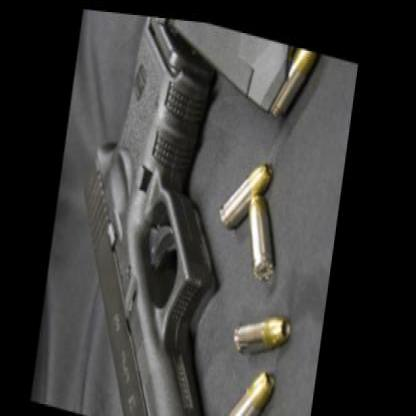pistol: (59, 6, 259, 413)
